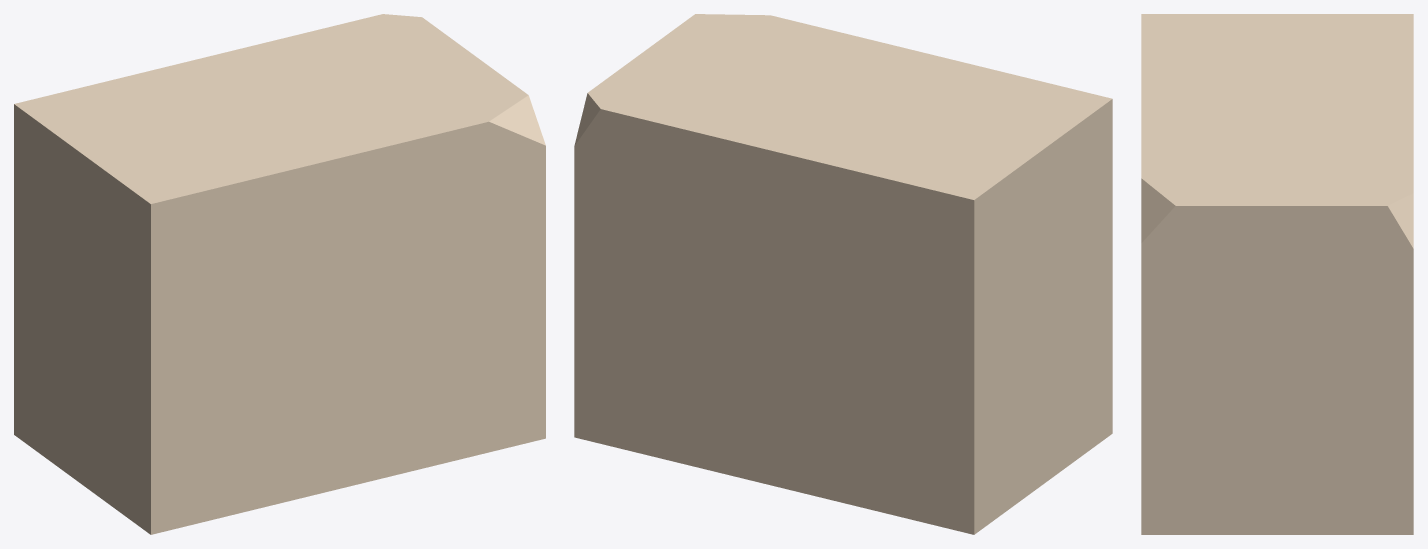
3 renders of one model, left to right at view 1: azimuth 30°, elevation 25°; view 2: azimuth 150°, elevation 25°; view 3: azimuth 270°, elevation 25°, orthographic.
Parts seen in each view (by area): view 1: object1.019; view 2: object1.019; view 3: object1.019.
Part boxes in pixels (x1,y1,x2,y2): object1.019: [14, 14, 545, 534]; object1.019: [574, 14, 1112, 534]; object1.019: [1141, 14, 1413, 534].
Bounding box in the file's own units: 0.25 × 0.2 × 0.15.
